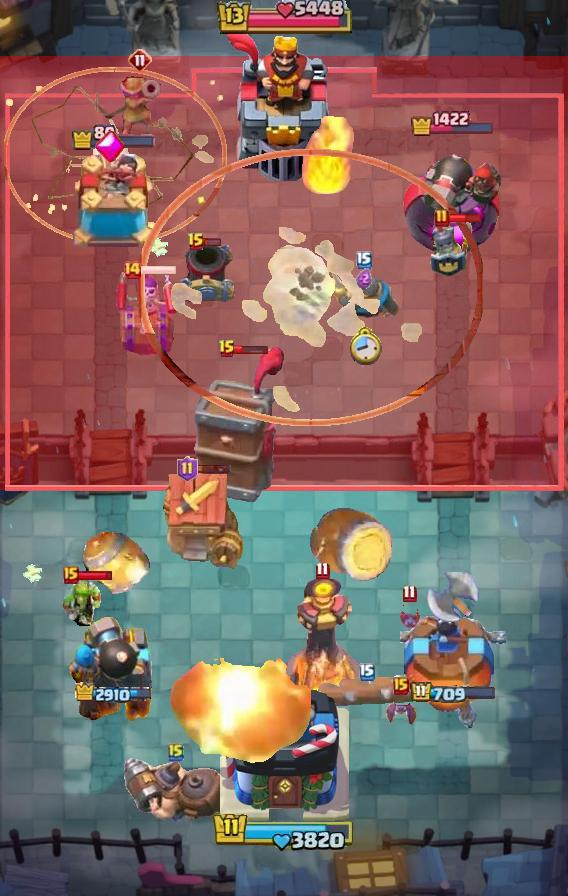barbarian-barrel: (384, 700, 418, 728), (397, 605, 421, 631)
bomb-tower: (119, 70, 161, 140)
clock: (212, 811, 356, 853), (215, 0, 353, 36)
dart-goblin: (191, 345, 285, 505)
dirt: (308, 506, 394, 584), (77, 521, 153, 601)
electro-dragon: (283, 576, 361, 702)
electro-spirit: (356, 267, 372, 289)
elixir: (346, 325, 382, 365)
emote: (139, 264, 177, 276), (196, 463, 233, 475), (234, 343, 270, 355), (449, 212, 484, 224), (77, 570, 114, 581), (202, 237, 221, 247)
firecracker: (328, 266, 400, 322)
guard: (4, 66, 227, 245)
king-tower: (219, 678, 349, 826), (223, 31, 345, 181)
minion: (317, 671, 417, 709)
musketeer: (175, 238, 237, 306)
princess: (429, 217, 475, 279)
queen-tower: (400, 603, 506, 731), (66, 154, 162, 256)
royal-ghost: (137, 149, 483, 428)
royal-giant: (427, 572, 487, 632)
selected: (410, 111, 496, 138), (71, 125, 157, 152), (411, 681, 498, 705), (74, 682, 154, 706)
skeleton-king-bar: (115, 269, 177, 355)
skeleton-king-skill: (93, 130, 125, 164)
sparky: (157, 473, 243, 571)
text: (128, 48, 152, 72), (178, 456, 199, 482), (122, 260, 142, 280), (187, 232, 205, 252), (218, 339, 236, 359), (434, 208, 450, 228), (168, 742, 184, 762), (356, 251, 372, 269), (63, 566, 79, 584), (359, 663, 375, 681), (393, 677, 409, 695), (314, 561, 329, 580), (403, 584, 417, 603)
tower-bar: (403, 138, 503, 256), (64, 615, 164, 731)
valkyrie: (159, 658, 315, 780), (296, 113, 354, 199)
wizard: (120, 755, 232, 825)
zap: (59, 579, 103, 629)
